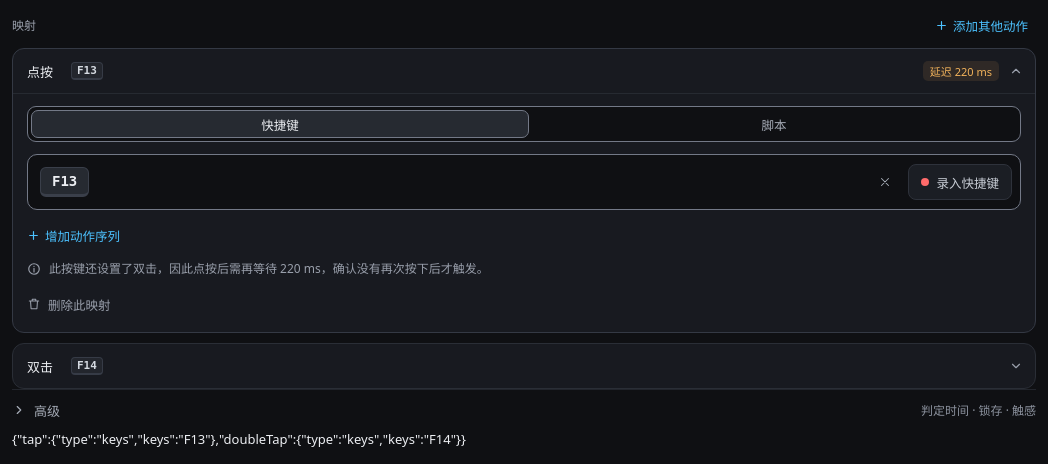
Test case: explains the wait before a tap when more taps may follow
Expected: the element with test id "gesture-delay" reads "此按键还设置了双击，因此点按后需再等待 220 ms，确认没有再次按下后才触发。", left=49, top=260, right=489, bottom=277
Click the button "双击 F14" at (87, 366), box left=13, top=344, right=1035, bottom=388
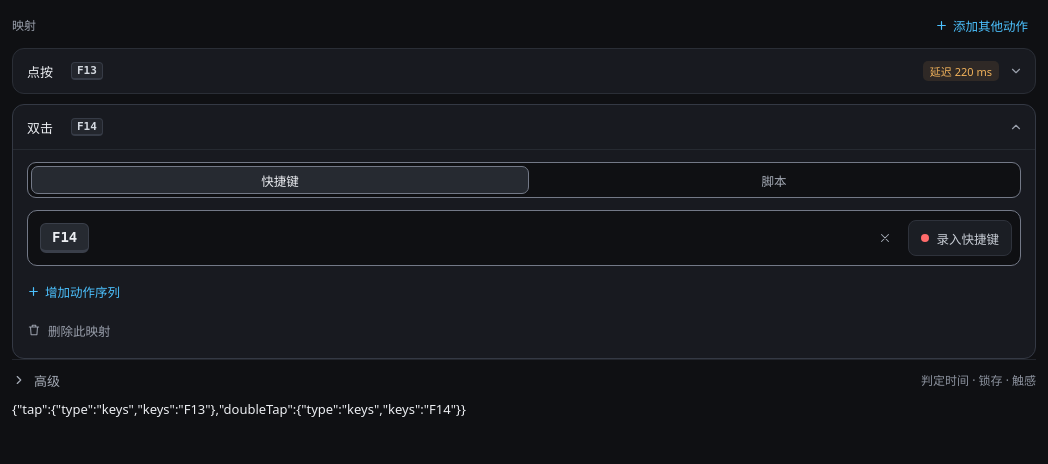
Now the element with test id "gesture-delay" is gone
